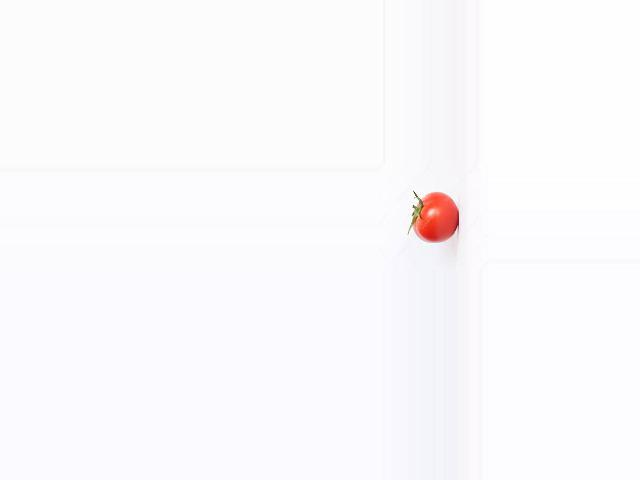tomato: (413, 192, 458, 244)
